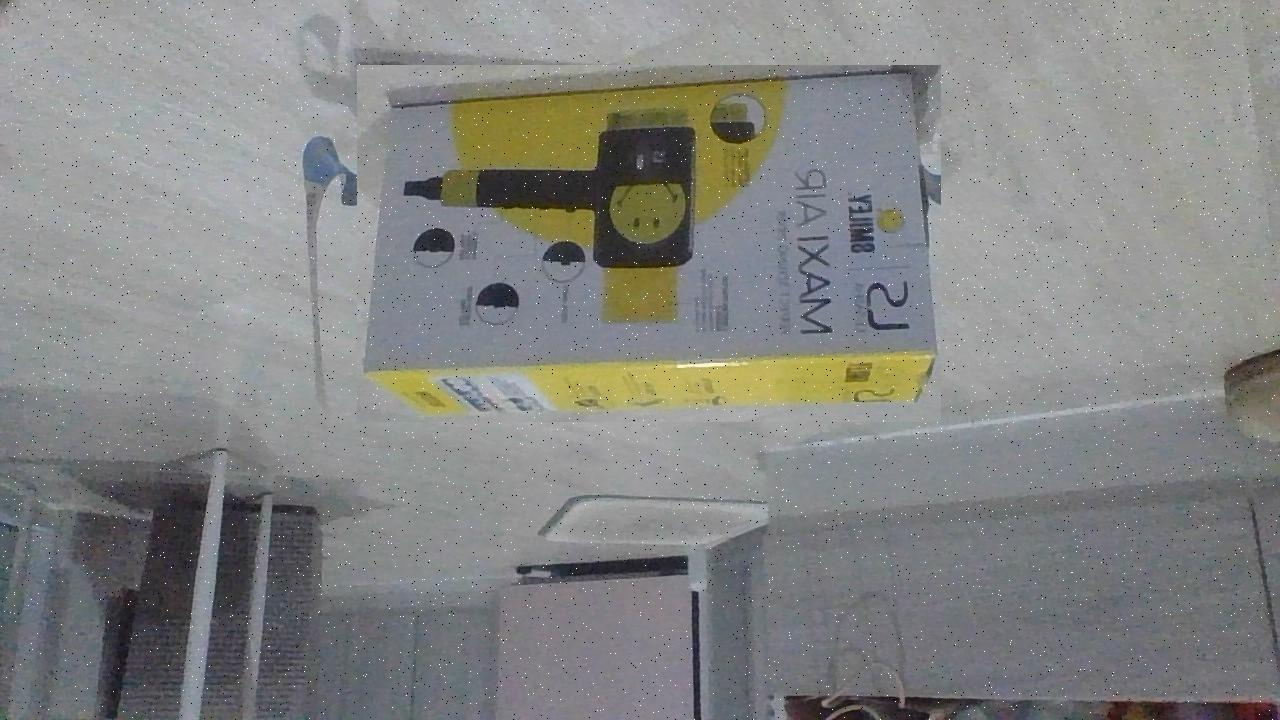IRON: (357, 65, 941, 422)
